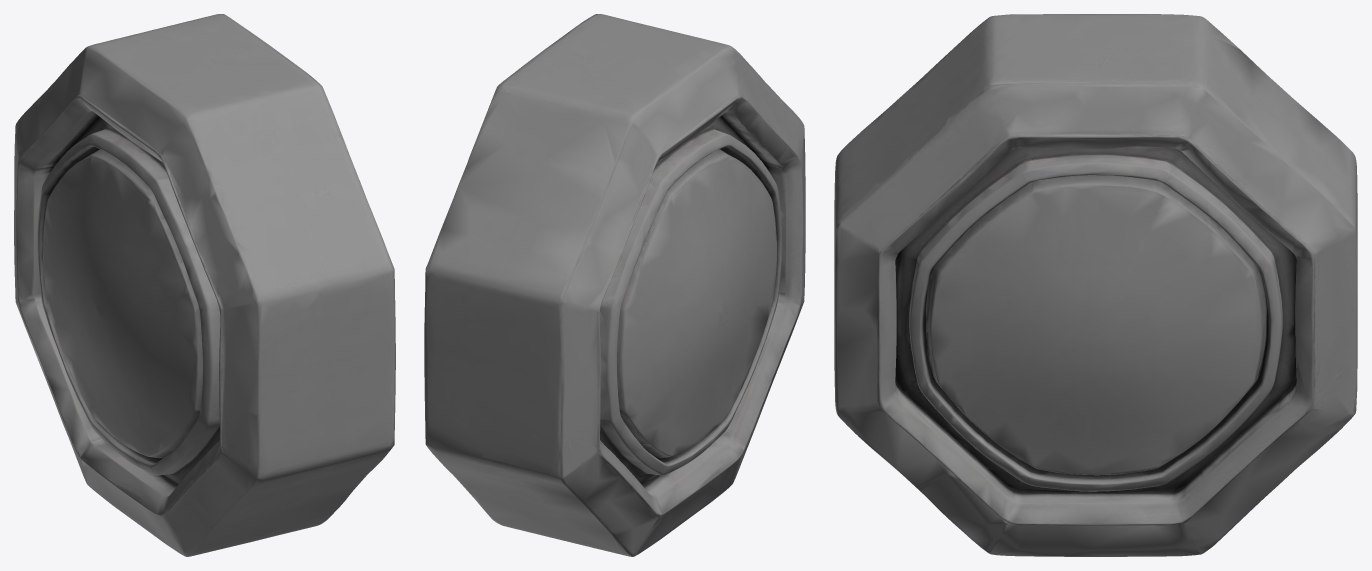
File: btn-function.glb
The picture shows the model from 3 angles, left to right: view 1: azimuth 30°, elevation 25°; view 2: azimuth 150°, elevation 25°; view 3: azimuth 270°, elevation 25°; orthographic projection. The views are drawn at different scales.
Parts seen in each view (by area): view 1: tripo_node_b7a0e2d1-1333-4372-8cfd-e58317fe84a6; view 2: tripo_node_b7a0e2d1-1333-4372-8cfd-e58317fe84a6; view 3: tripo_node_b7a0e2d1-1333-4372-8cfd-e58317fe84a6.
Part boxes in pixels (left/top/right/bottom): tripo_node_b7a0e2d1-1333-4372-8cfd-e58317fe84a6: left=14, top=14, right=395, bottom=556; tripo_node_b7a0e2d1-1333-4372-8cfd-e58317fe84a6: left=424, top=14, right=805, bottom=556; tripo_node_b7a0e2d1-1333-4372-8cfd-e58317fe84a6: left=834, top=14, right=1357, bottom=556.
Bounding box in the file's own units: 0.0747 × 0.15 × 0.1498.
Materials: 1 (1 with a texture image).
